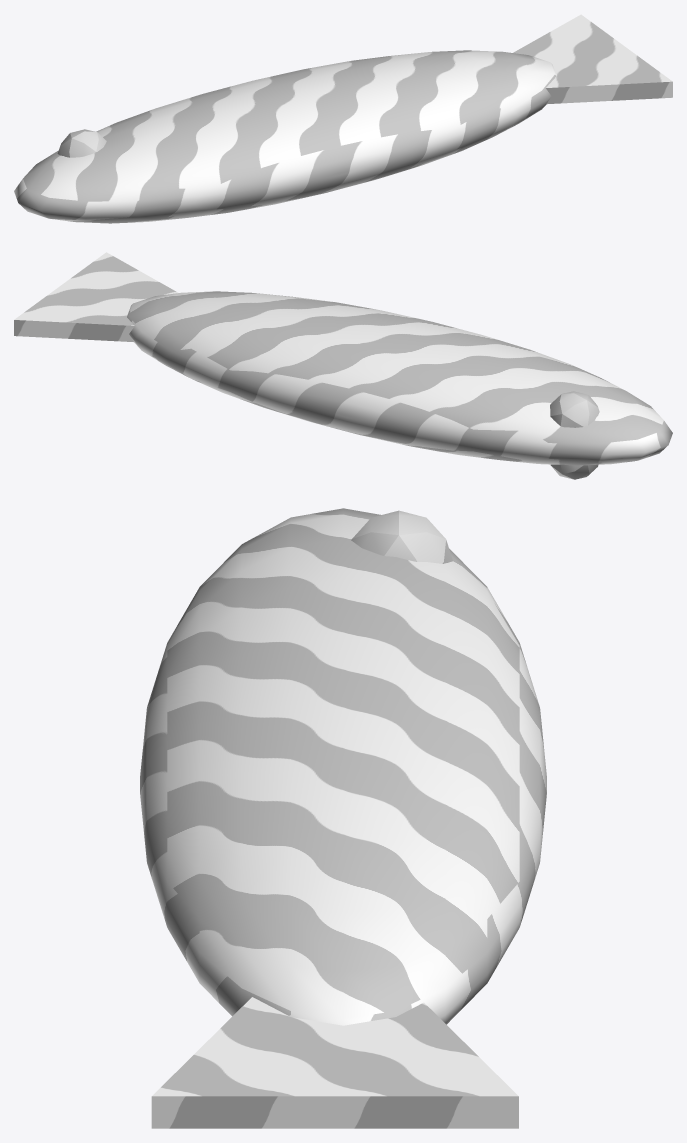
The model's file is Fish2.fbx.
3 renders of one model, top to bottom at view 1: azimuth 30°, elevation 25°; view 2: azimuth 150°, elevation 25°; view 3: azimuth 270°, elevation 25°, orthographic. The views are drawn at different scales.
Visible parts, largest first — view 1: sphere, blockTriangle, icosphere_half; view 2: sphere, blockTriangle, icosphere_half (×2); view 3: sphere, blockTriangle, icosphere_half.
Part boxes in pixels (left/top/right/bottom): sphere: left=14, top=50, right=556, bottom=223; blockTriangle: left=513, top=14, right=672, bottom=104; icosphere_half: left=57, top=129, right=106, bottom=157; sphere: left=127, top=291, right=672, bottom=465; blockTriangle: left=14, top=252, right=178, bottom=341; icosphere_half (×2): left=550, top=391, right=599, bottom=479; sphere: left=140, top=508, right=546, bottom=1025; blockTriangle: left=151, top=997, right=518, bottom=1128; icosphere_half: left=351, top=510, right=452, bottom=563.
Size of the model in its own units: 37.88 by 5 by 11.
Materials: 2 (1 with a texture image).
